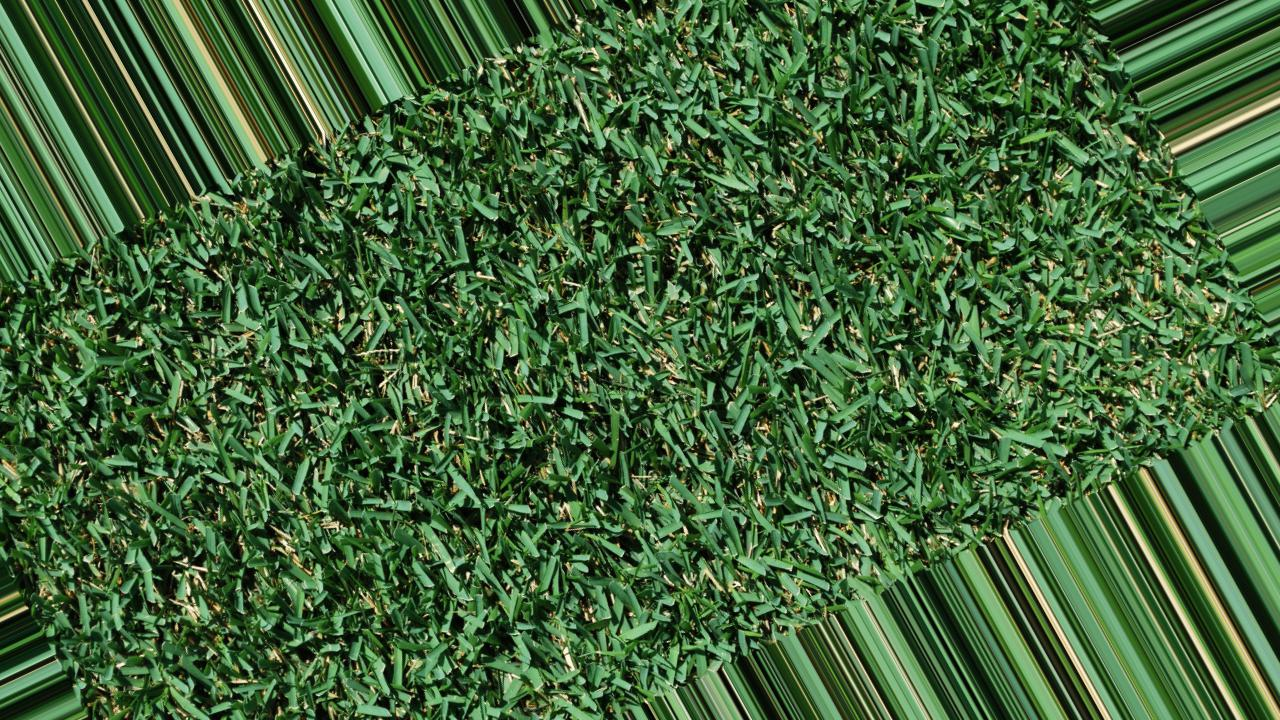patch: (354, 326, 490, 430), (179, 363, 284, 467), (138, 562, 228, 674), (635, 306, 722, 378), (611, 528, 727, 582), (1030, 347, 1144, 389)
